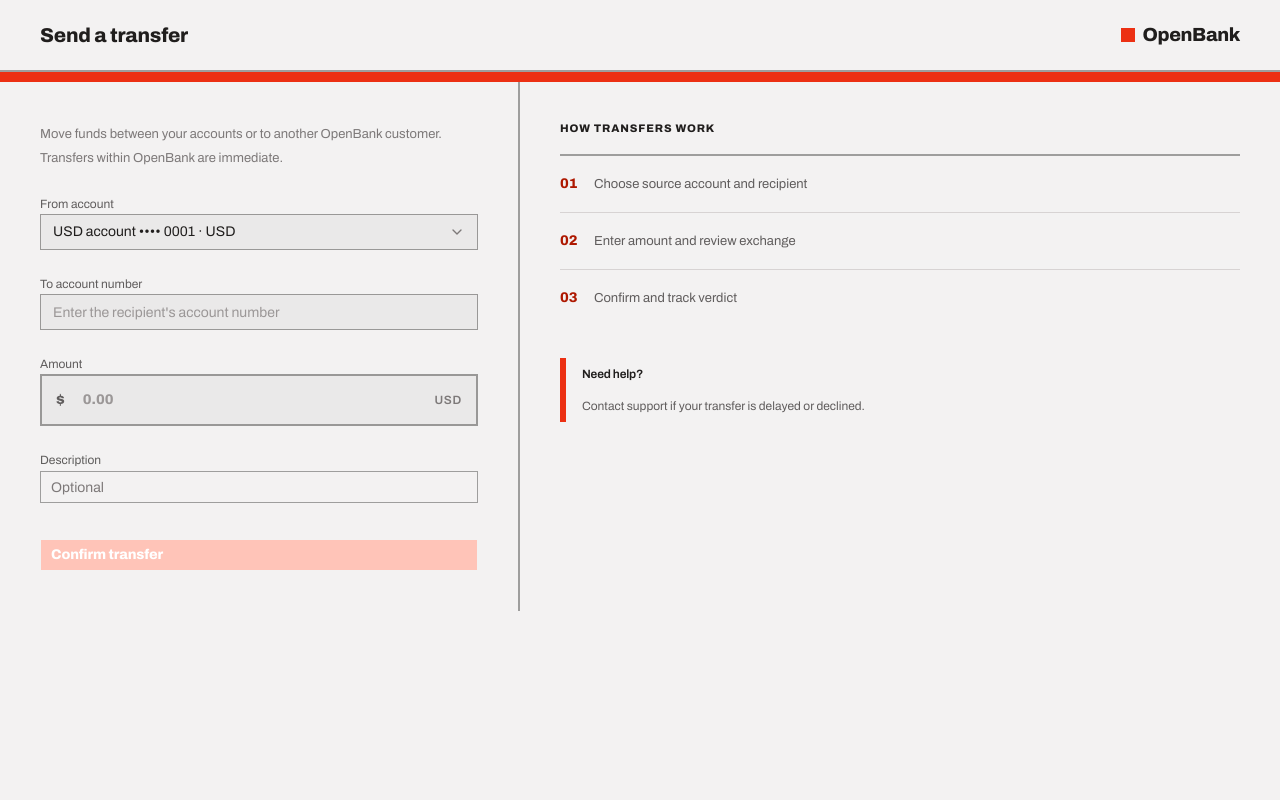
Scenario: TransferPageScreen workspace › an approved verdict from the ledger shows the success modal
Check: the dropdown named "From account" is shown, box [40,214,478,250]
In the field with placeholder "Enter the recipient's account number": (259, 312) [40,294,478,330], type "8800001122"
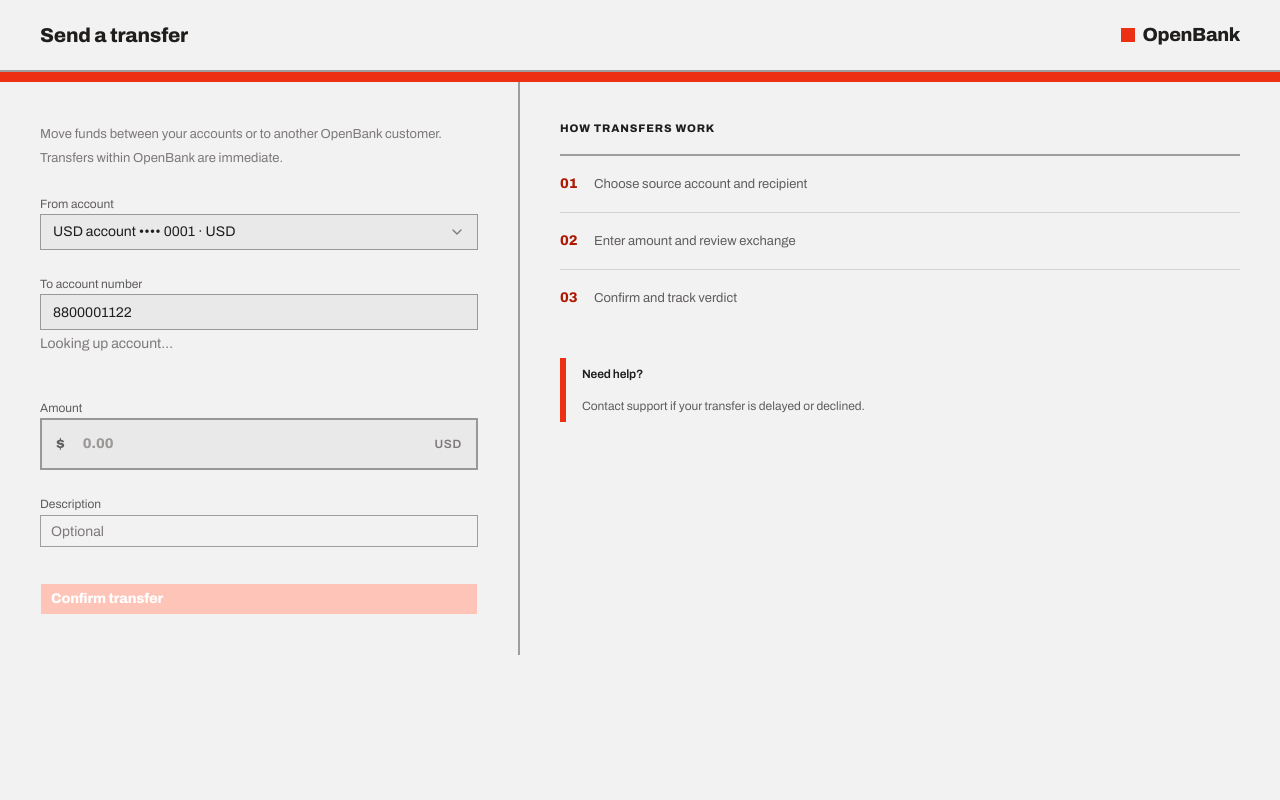
In the field with placeholder "0.00": (250, 444) [73,420,426,468], type "5.00"
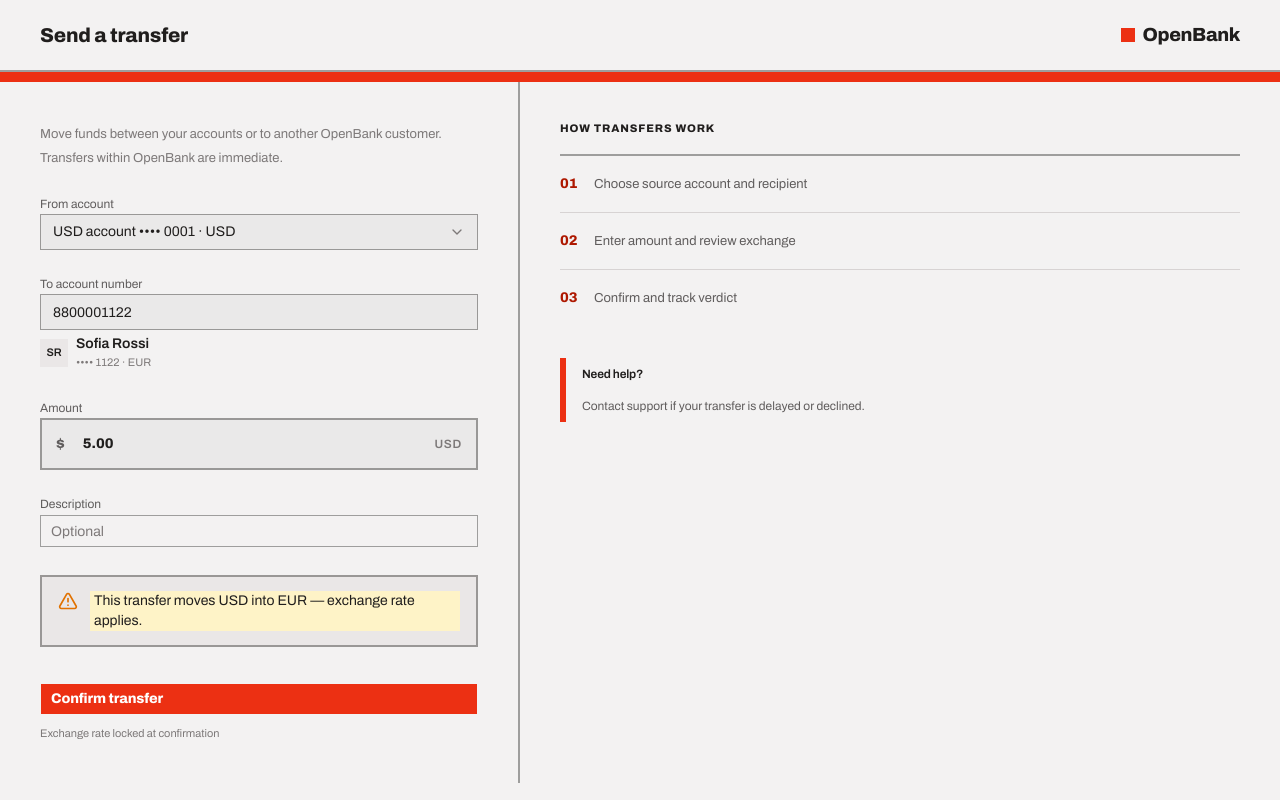
Check: the text "Sofia Rossi" is shown, box [76,334,151,354]
Click the button "Confirm transfer": (107, 699) [40,683,478,715]
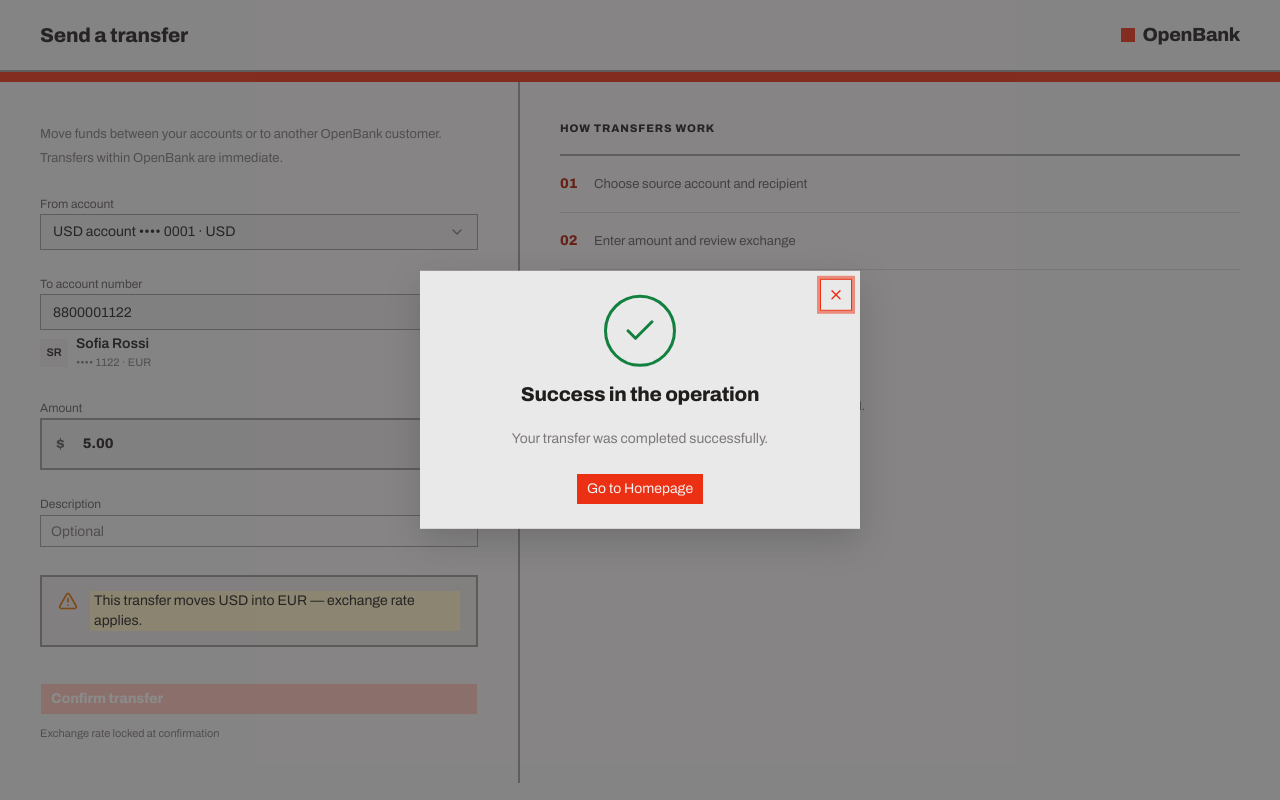
Check: the heading "Success in the operation" is shown, box [521,383,759,405]
Check: the link "Go to Homepage" is shown, box [576,473,704,505]
